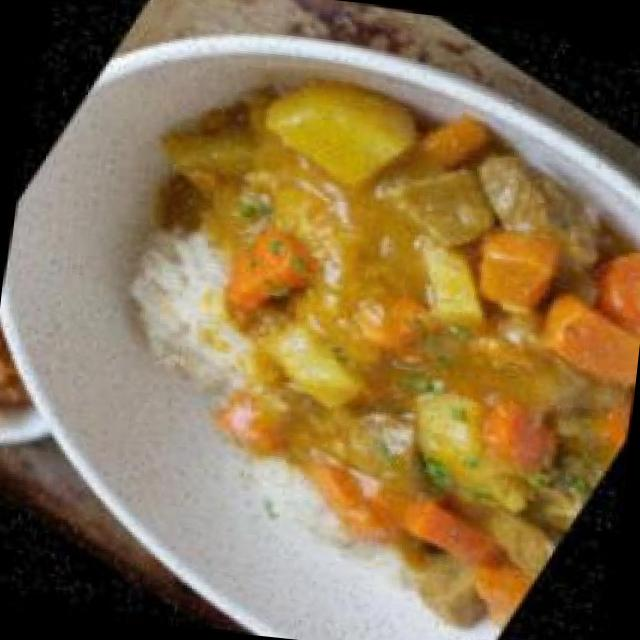curry: (23, 0, 640, 640)
